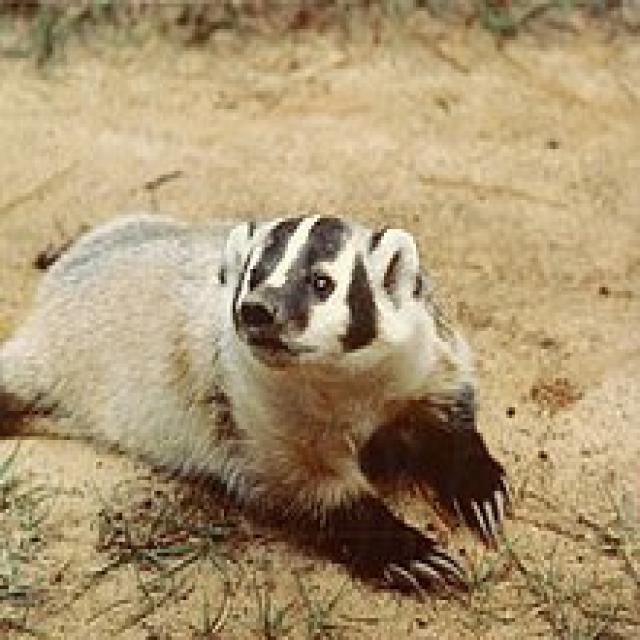Badger: (1, 180, 514, 598)
